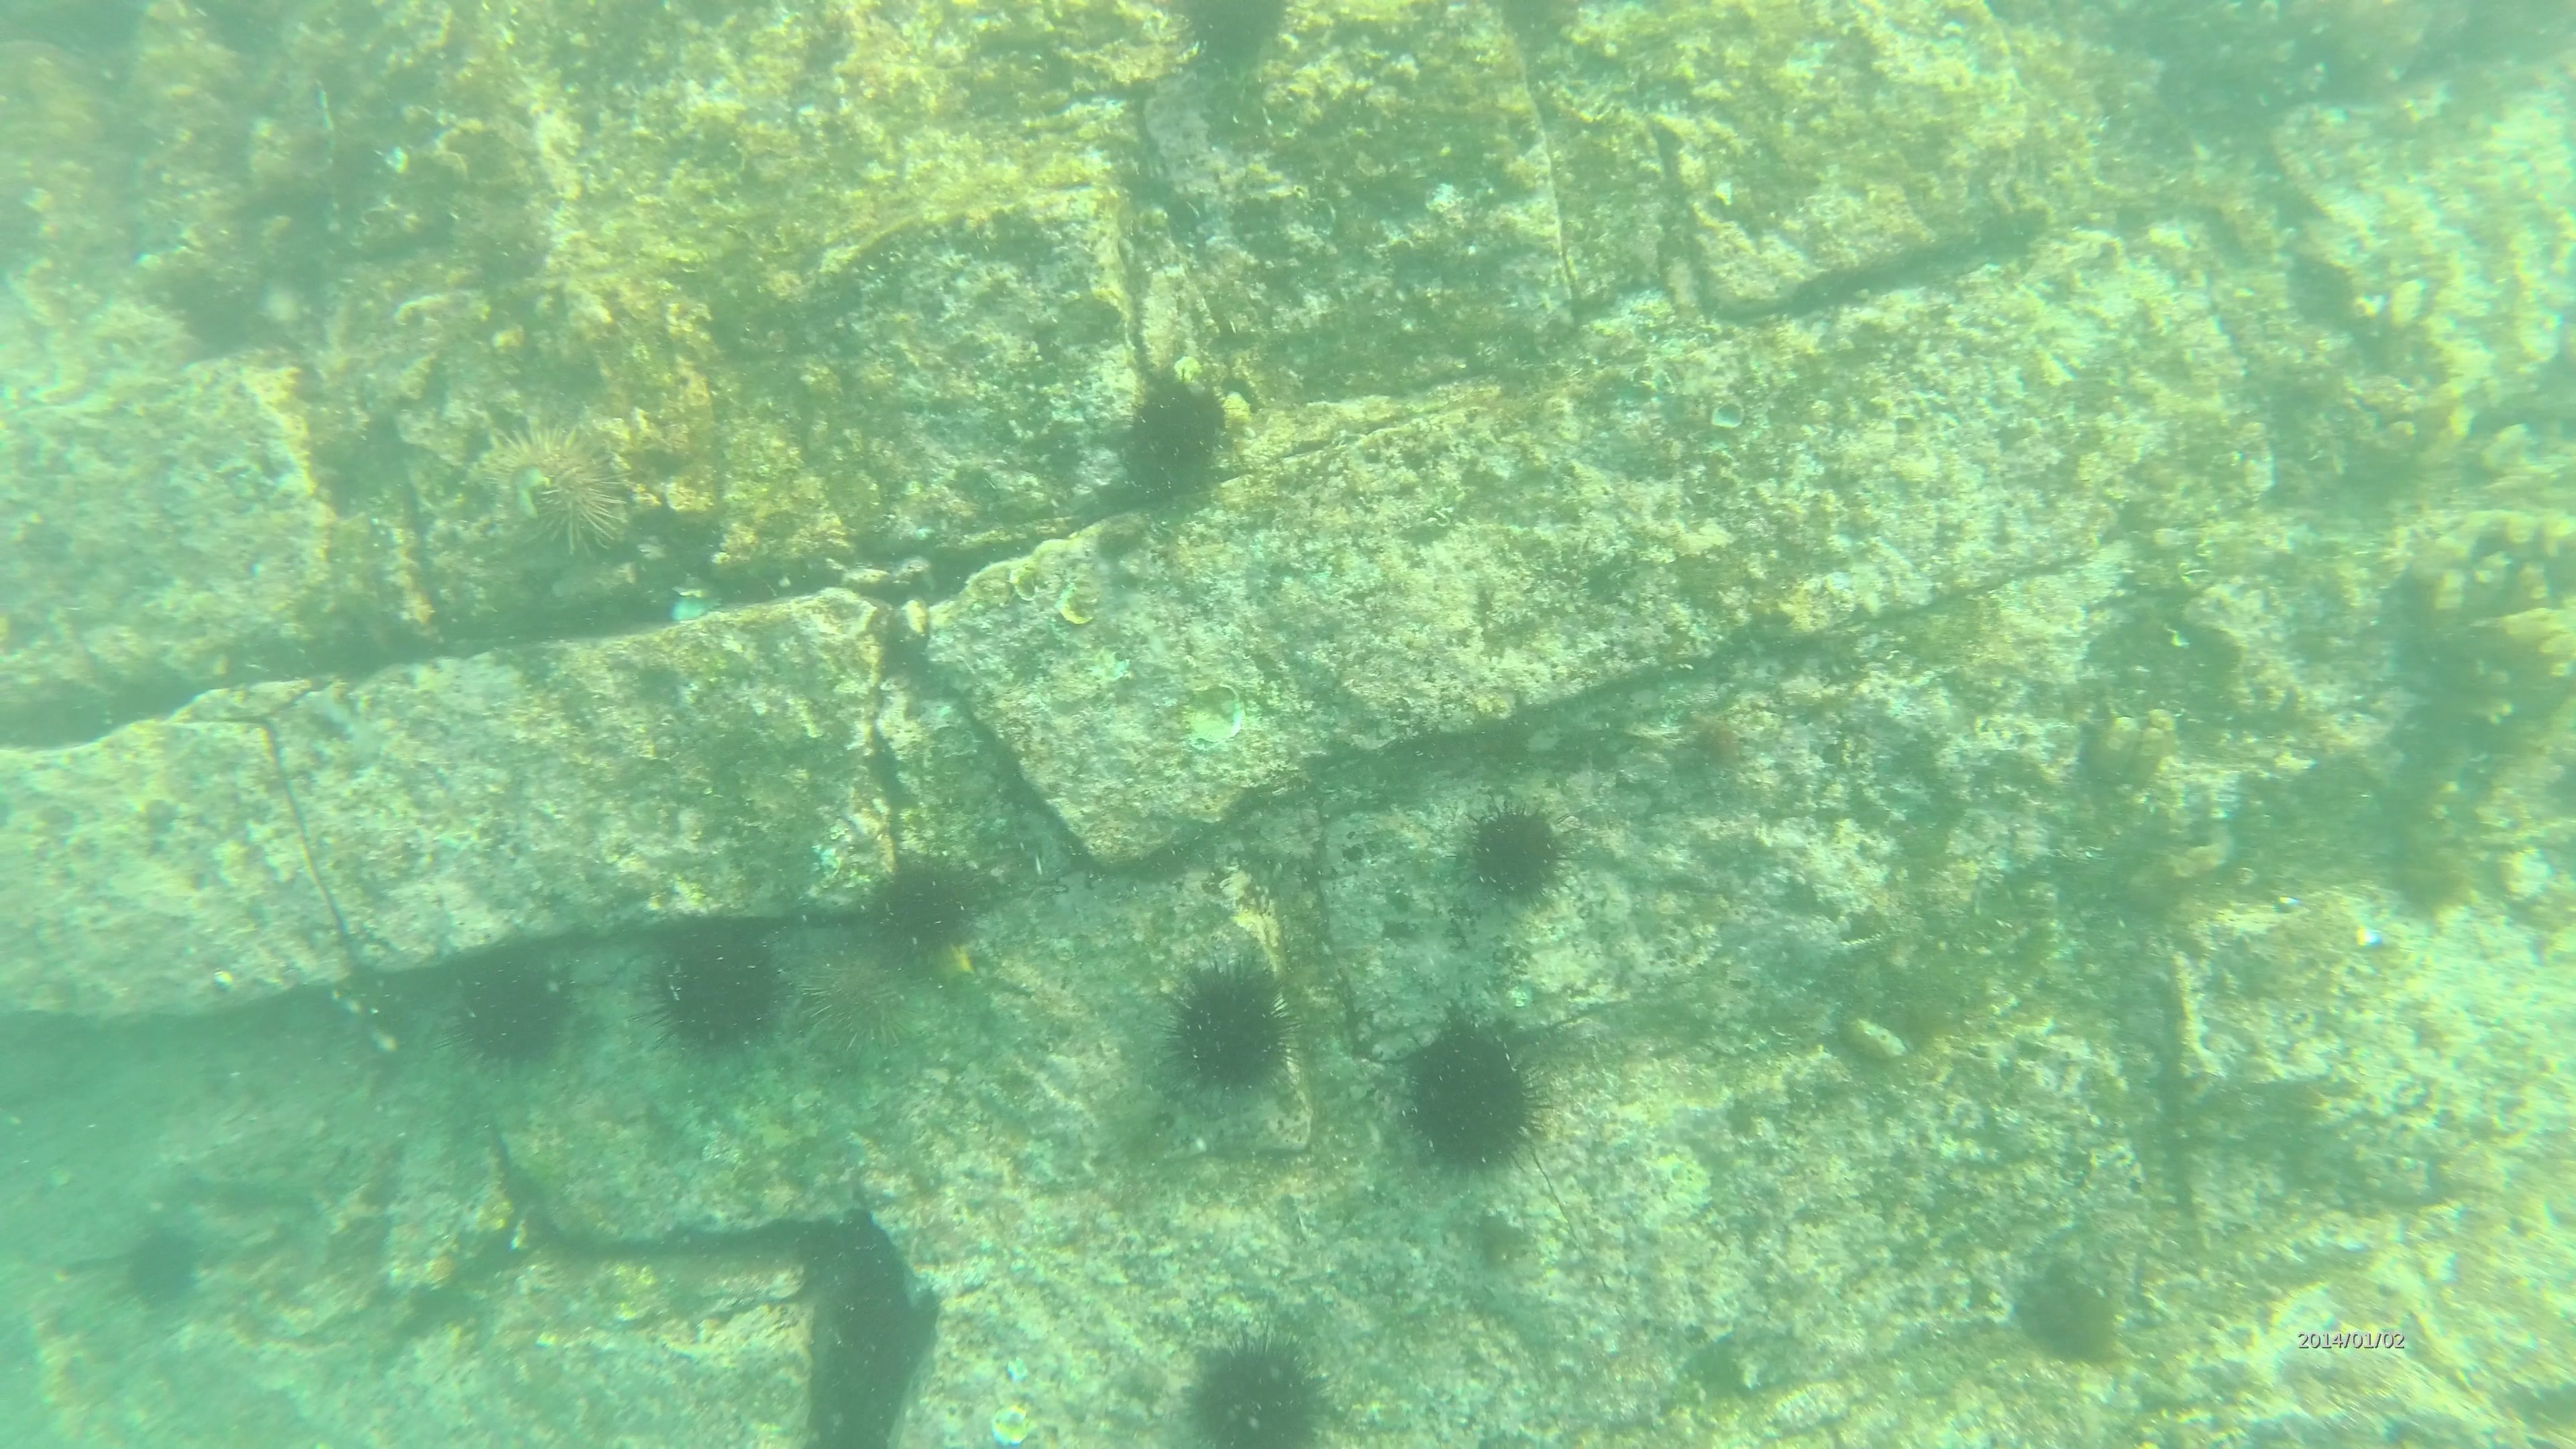echinus: (462, 412, 639, 570), (1391, 1012, 1553, 1182), (1155, 952, 1299, 1106), (644, 916, 791, 1060), (1177, 1329, 1338, 1444), (1115, 370, 1240, 508), (793, 945, 925, 1072), (448, 950, 580, 1072), (863, 851, 987, 971), (1453, 794, 1575, 911), (1162, 0, 1304, 78), (113, 1217, 211, 1316)
